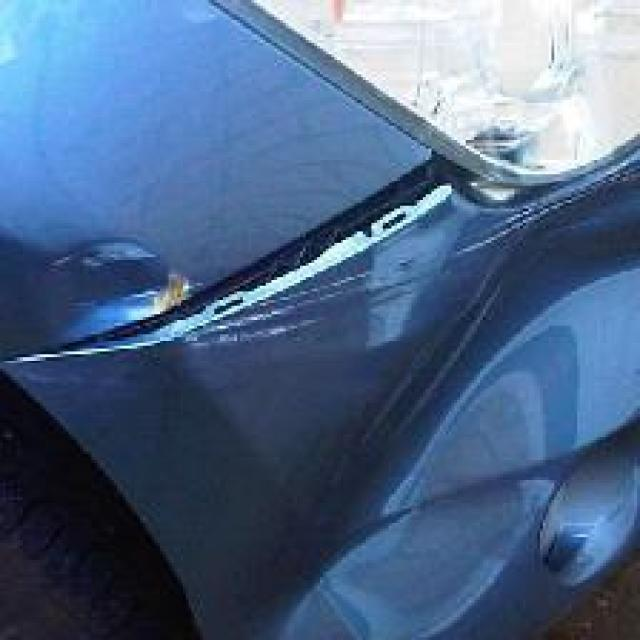damaged: (34, 148, 563, 638)
